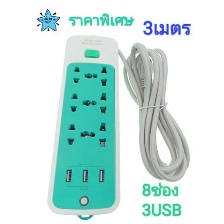three_eye_plug: (43, 30, 121, 220)
